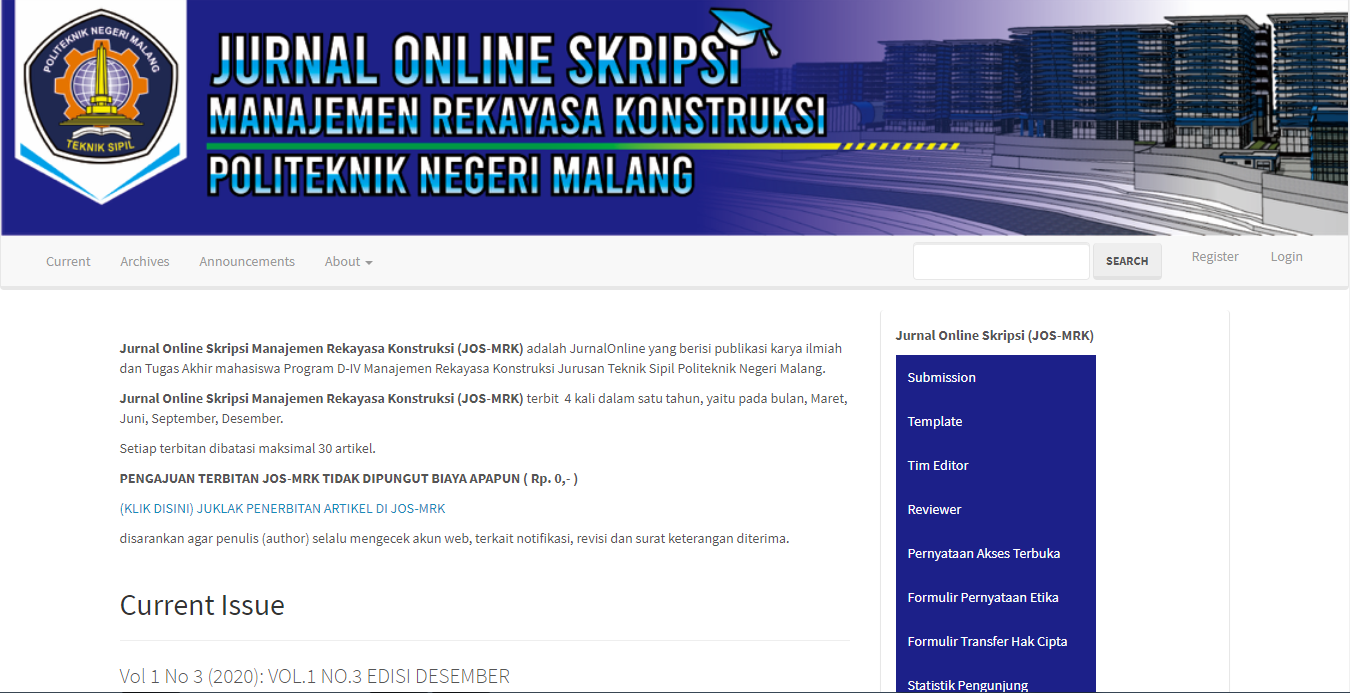Button: (1091, 240, 1167, 282)
Image: (6, 0, 1348, 235)
Menu Bar: (6, 235, 424, 285)
Nav Bar: (896, 360, 1095, 693), (1186, 246, 1244, 267), (1263, 249, 1313, 268)
Side Bar: (875, 306, 1226, 693)
Text Field: (907, 239, 1093, 285)
